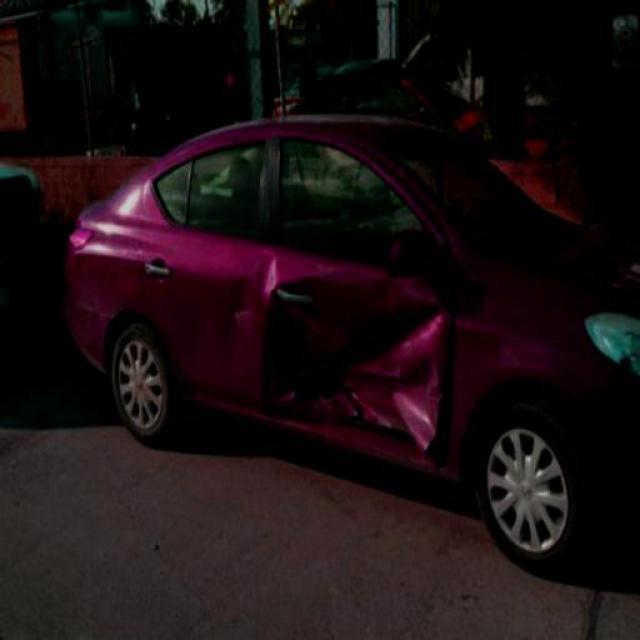Car-Damage: (264, 261, 456, 466), (221, 276, 258, 364), (261, 247, 279, 303)
